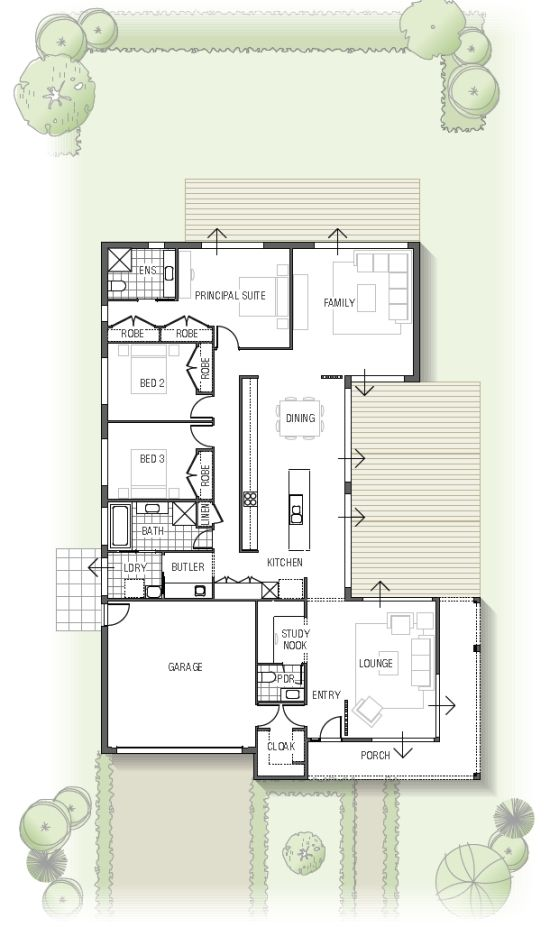door: (215, 323, 239, 345), (189, 528, 213, 550), (184, 423, 208, 445), (184, 398, 208, 420), (108, 602, 132, 624), (280, 704, 304, 726), (257, 704, 281, 726), (320, 714, 344, 736)
room: (289, 239, 420, 383), (342, 593, 440, 744), (174, 239, 294, 351), (98, 419, 215, 502), (102, 340, 215, 424), (100, 497, 215, 554), (100, 547, 215, 604), (100, 241, 179, 303), (253, 726, 308, 782), (254, 661, 308, 706)
wall: (414, 242, 420, 381), (101, 625, 107, 751), (239, 374, 242, 551), (101, 242, 108, 303), (255, 599, 258, 703), (265, 242, 315, 247), (101, 404, 108, 438), (102, 242, 148, 247), (436, 597, 439, 673), (101, 321, 107, 356), (304, 576, 307, 617), (344, 481, 351, 492), (345, 588, 351, 600), (243, 748, 256, 752)
